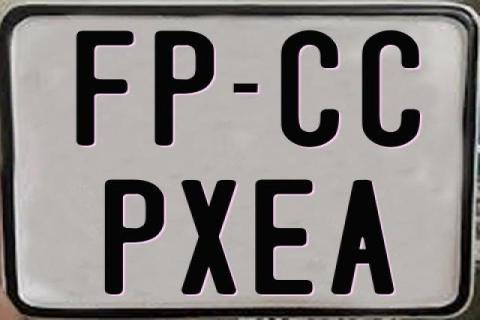A: (330, 180, 394, 299)
C: (360, 28, 423, 145), (279, 28, 340, 146)
E: (253, 180, 314, 298)
F: (75, 28, 137, 145)
P: (152, 28, 214, 144), (105, 177, 165, 296)
X: (181, 179, 242, 295)
